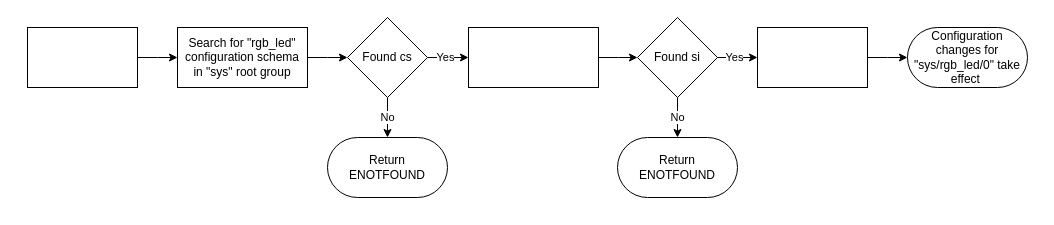
Image size: 1054x225. Some labels were removed from this diagram. The shapes that lost their labels are listed below. From the top down, each one's centre as x and y in pixels, then its label:
point (82, 57): registry_commit( "sys/rgb_led/0" )
point (533, 57): Search for "0" schema instance
point (812, 57): si->commit_cb( "sys/rgb_led/0" )
